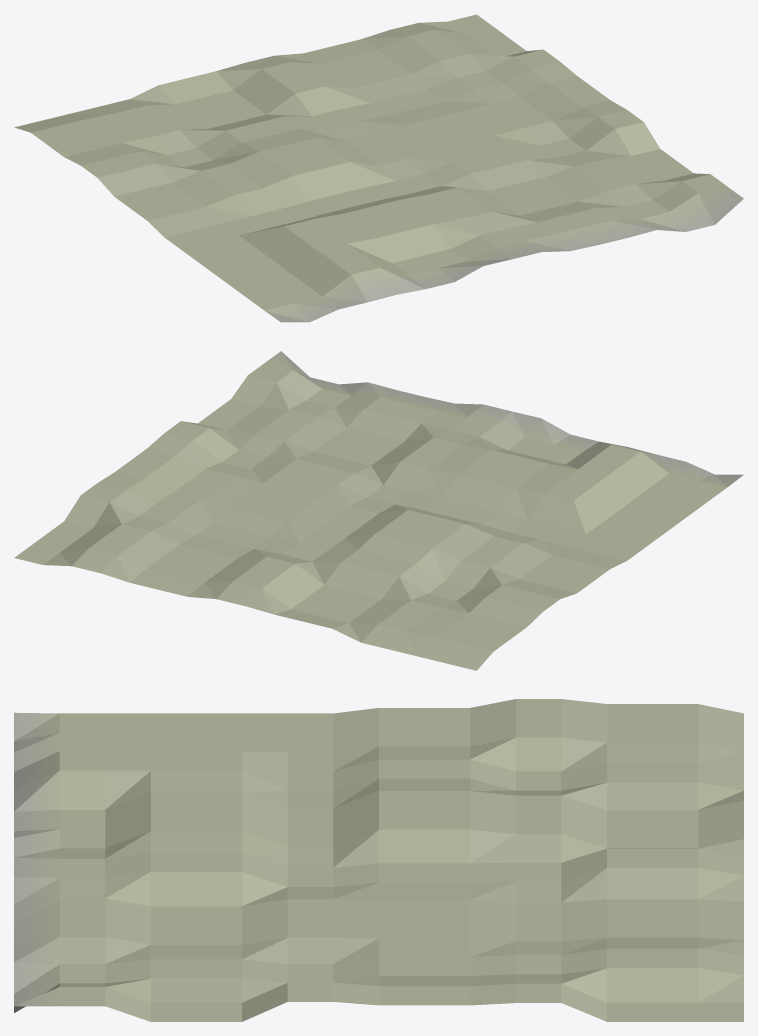
3 renders of one model, top to bottom at view 1: azimuth 30°, elevation 25°; view 2: azimuth 150°, elevation 25°; view 3: azimuth 270°, elevation 25°, orthographic. The views are drawn at different scales.
Bounding box in the file's own units: 32 × 1.49 × 32.
